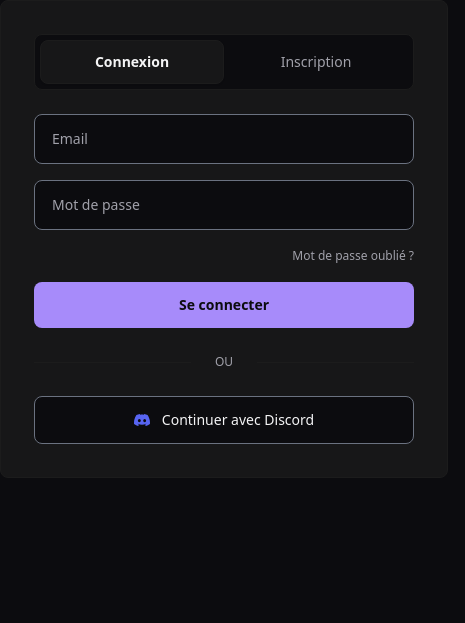
Test: AuthPanel › branchement Supabase › affiche un message de vérification si aucune session (confirmation email active)
Click the tab "Inscription": (316, 62) [224,40,408,84]
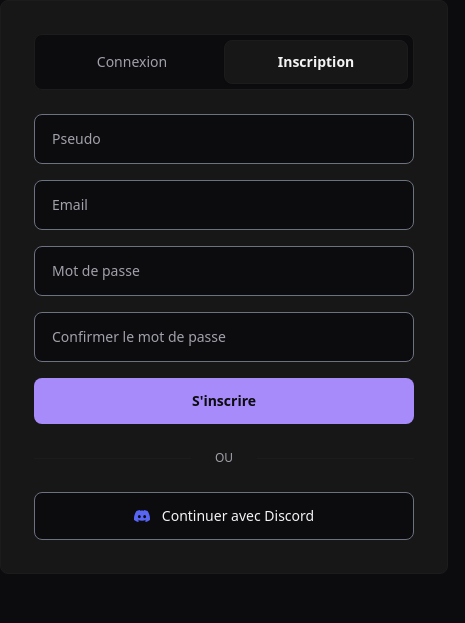
In the field with id "signup-pseudo": (224, 139) [34,114,414,164], type "Alex"
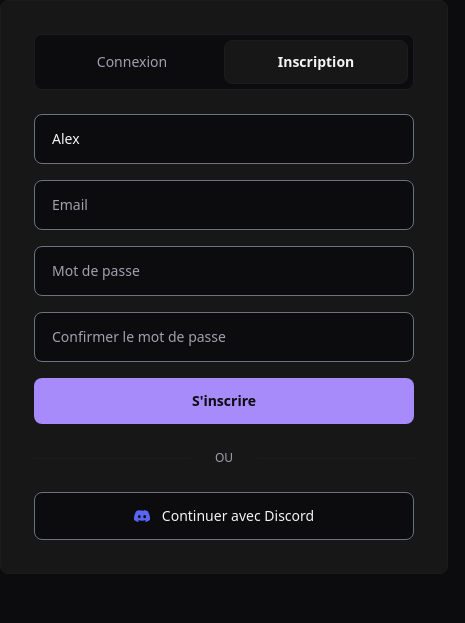
In the field with id "signup-email": (224, 205) [34,180,414,230], type "alex@battlemind.gg"
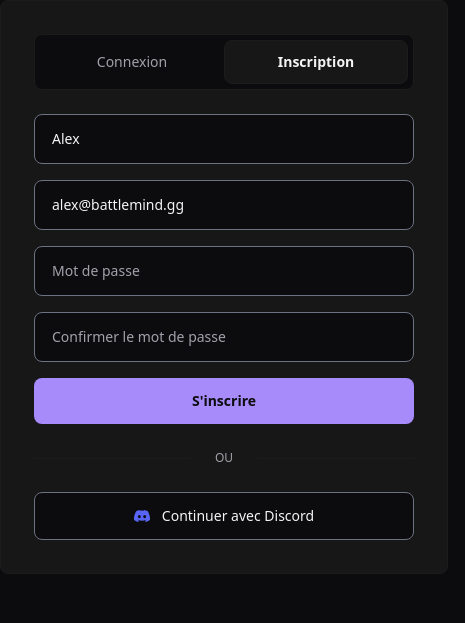
In the password field with id "signup-password": (224, 271) [34,246,414,296], type "secret123"
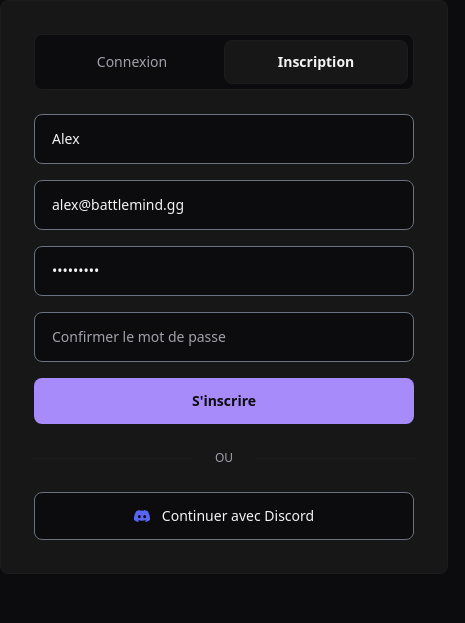
In the password field with id "signup-password-confirm": (224, 337) [34,312,414,362], type "secret123"
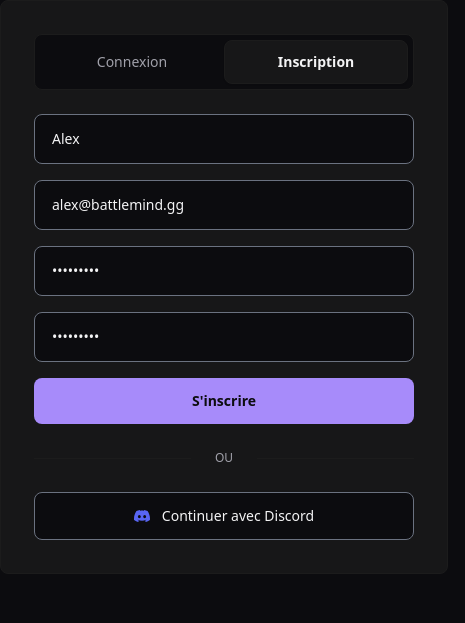
Submit the panel, box [34,114,414,424]
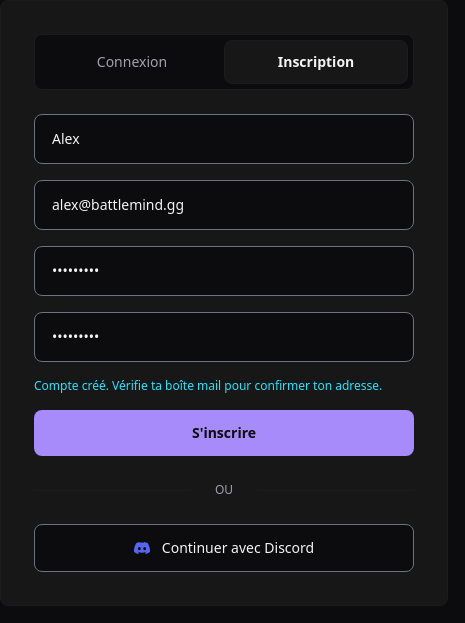
Expected: the message "Compte créé. Vérifie ta boîte mail pour confirmer ton adresse." is shown, [34,378,414,394]
